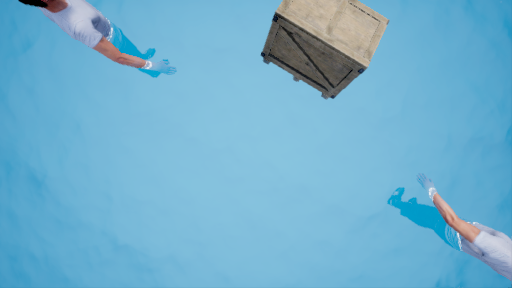person: (17, 1, 184, 86), (382, 175, 512, 274)
